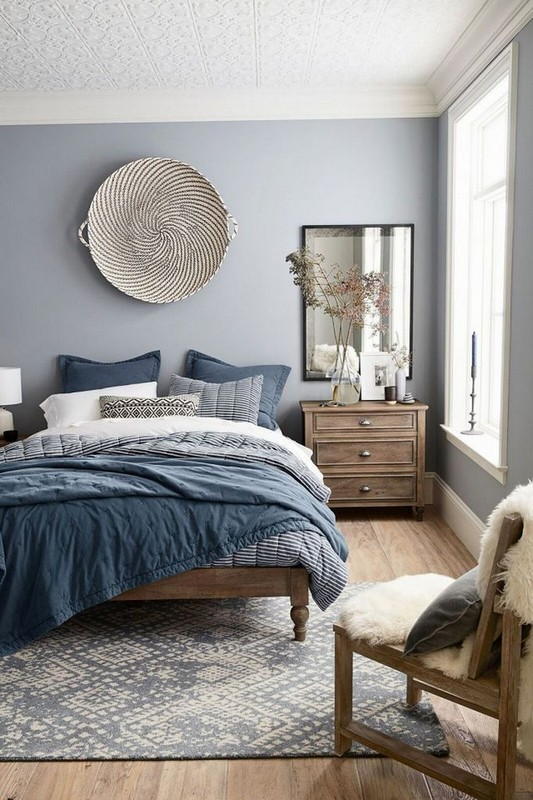bed: (27, 356, 309, 634)
chair: (333, 507, 521, 790)
lamp: (3, 364, 23, 437)
stool: (298, 394, 444, 521)
